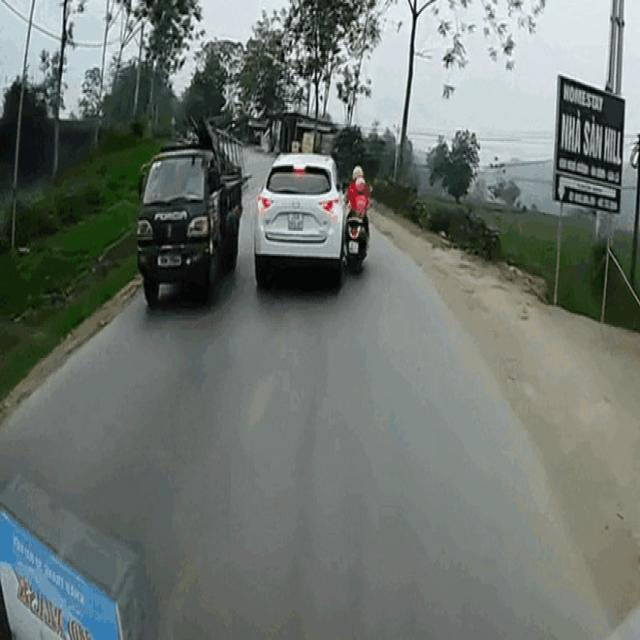normal: (129, 136, 259, 320), (253, 132, 373, 294)
